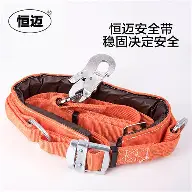safety belt: (8, 69, 186, 173)
